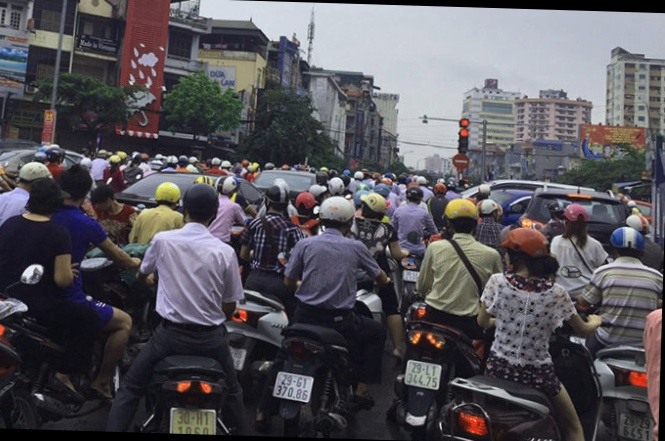Bien-so: (162, 411, 208, 441), (266, 380, 305, 412), (398, 371, 434, 404), (222, 352, 242, 378), (401, 277, 418, 292)
